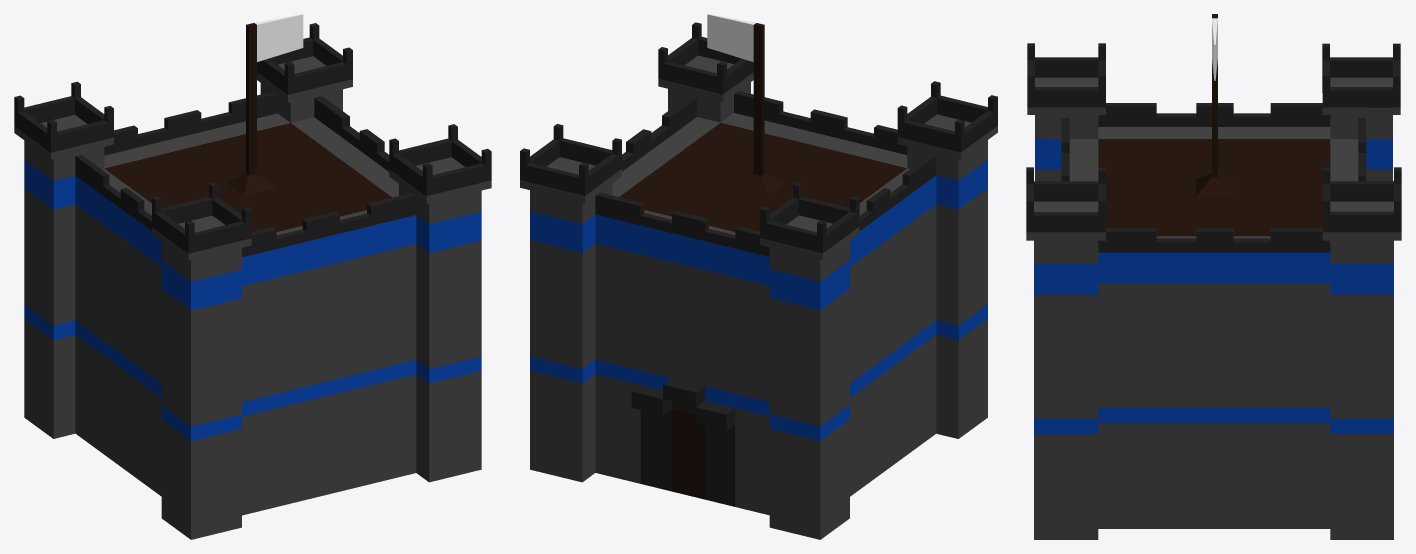
The model's file is target_castle_fractured.FBX.
3 views of the same model, side by side, from view 1: azimuth 30°, elevation 25°; view 2: azimuth 150°, elevation 25°; view 3: azimuth 270°, elevation 25° (orthographic). The views are drawn at different scales.
Parts seen in each view (by area): view 1: Box001_Part_10, Box001_Part_7, Box001_Part_4, Box001_Part_20, Box001_Part_9, Box001_Part_14, Box001_Part_1, Box001_Part_18, Box001_Part_19, Box001_Part_3, Box001_Part_6, Box001_Part_13 (+2 smaller); view 2: Box001_Part_13, Box001_Part_9, Box001_Part_10, Box001_Part_3, Box001_Part_4, Box001_Part_14, Box001_Part_7, Box001_Part_6, Box001_Part_8, Box001_Part_5, Box001_Part_11, Box001_Part_12 (+1 smaller); view 3: Box001_Part_7, Box001_Part_13, Box001_Part_11, Box001_Part_10, Box001_Part_1, Box001_Part_8, Box001_Part_4, Box001_Part_5, Box001_Part_6, Box001_Part_20, Box001_Part_18, Box001_Part_16 (+1 smaller).
Boxes of the visible parts, x1,y1,x2,y2 form: Box001_Part_10: [14, 14, 303, 242]; Box001_Part_7: [316, 124, 491, 355]; Box001_Part_4: [152, 182, 290, 374]; Box001_Part_20: [263, 201, 391, 363]; Box001_Part_9: [24, 276, 131, 473]; Box001_Part_14: [125, 369, 255, 539]; Box001_Part_1: [340, 305, 481, 437]; Box001_Part_18: [247, 415, 481, 513]; Box001_Part_19: [242, 363, 356, 485]; Box001_Part_3: [24, 176, 116, 314]; Box001_Part_6: [108, 194, 267, 371]; Box001_Part_13: [236, 23, 352, 135]; Box001_Part_13: [520, 124, 702, 412]; Box001_Part_9: [665, 351, 883, 539]; Box001_Part_10: [584, 14, 881, 297]; Box001_Part_3: [660, 262, 869, 398]; Box001_Part_4: [860, 81, 997, 263]; Box001_Part_14: [878, 303, 987, 471]; Box001_Part_7: [622, 22, 797, 163]; Box001_Part_6: [796, 151, 923, 374]; Box001_Part_8: [614, 142, 799, 207]; Box001_Part_5: [534, 385, 681, 485]; Box001_Part_11: [530, 399, 665, 489]; Box001_Part_12: [912, 252, 987, 326]; Box001_Part_7: [1026, 167, 1247, 417]; Box001_Part_13: [1233, 168, 1401, 464]; Box001_Part_11: [1144, 439, 1393, 539]; Box001_Part_10: [1201, 14, 1401, 216]; Box001_Part_1: [1034, 382, 1200, 525]; Box001_Part_8: [1144, 136, 1318, 382]; Box001_Part_4: [1027, 43, 1158, 181]; Box001_Part_5: [1184, 372, 1385, 461]; Box001_Part_6: [1087, 103, 1221, 180]; Box001_Part_20: [1061, 158, 1162, 205]; Box001_Part_18: [1034, 505, 1104, 539]; Box001_Part_16: [1114, 478, 1153, 528].
Bounding box in the file's own units: 193 × 255 × 194.
